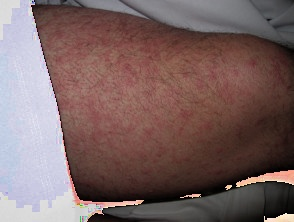Nail_psoriasis: (37, 4, 293, 198)
